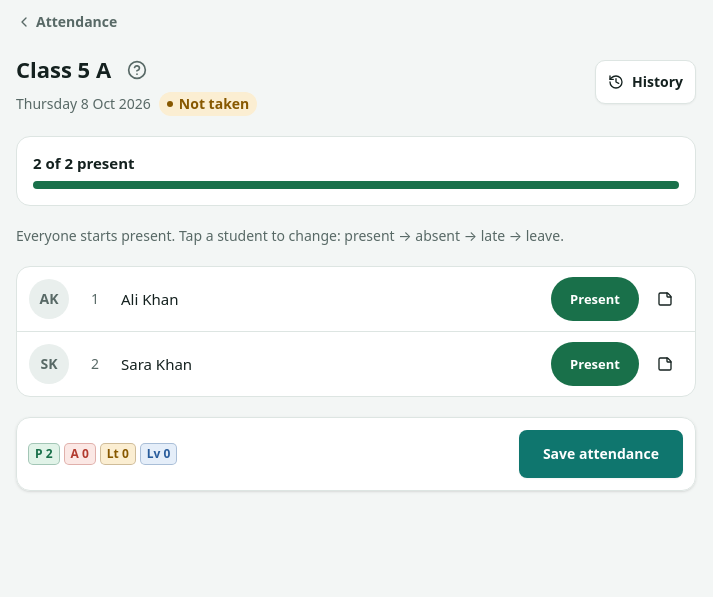
Scenario: register screen offline (browser reports offline) › a double tap saves one register (one client_id per draft)
What coordinates should you click on to do the following:
click the button "Save attendance"
I would click on:
 (601, 454)
Its box is top-left (519, 430), bottom-right (683, 478).
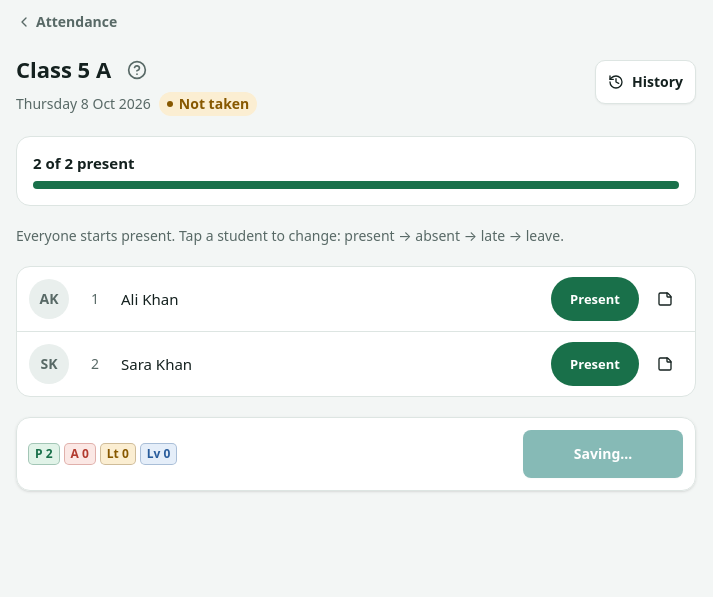
What coordinates should you click on to do the following:
click the button named "Save attendance"
I would click on:
 (603, 454)
Its box is top-left (523, 430), bottom-right (683, 478).
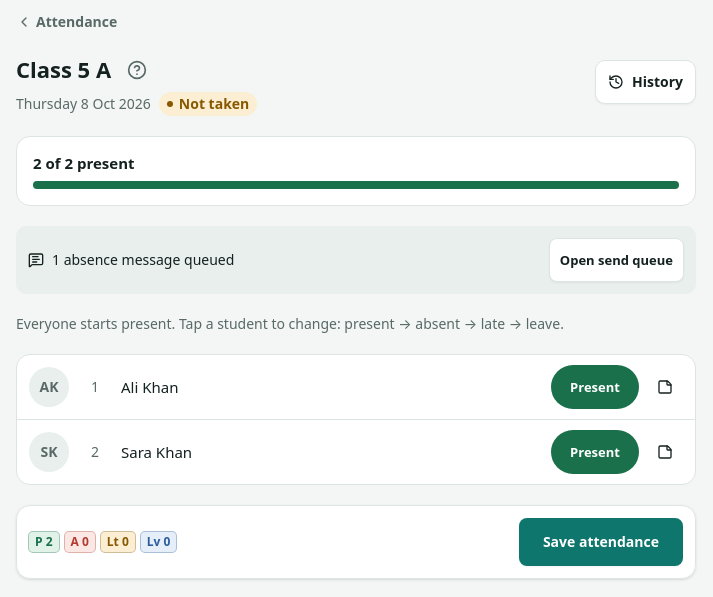
Expected: the text "1 absence message queued" is shown, top-left (52, 250), bottom-right (234, 269)
